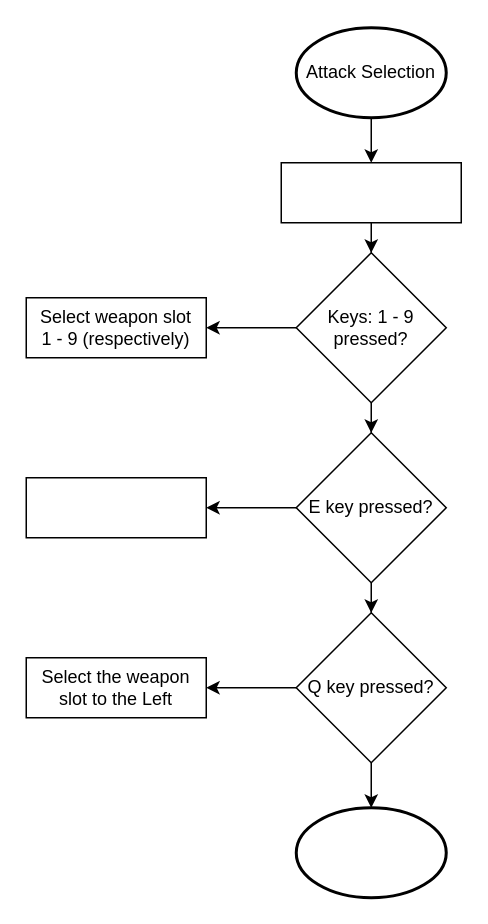
Some shapes in this 488 by 924 pixel diagram are drawn without their labels. The shapes that lost their labels are listed below. From the top down, each one's centre as x and y in pixels, then its label:
At pixel 370 192: "Key input detected".
At pixel 115 507: "Select the weapon slot to the right".
At pixel 370 852: "End".
